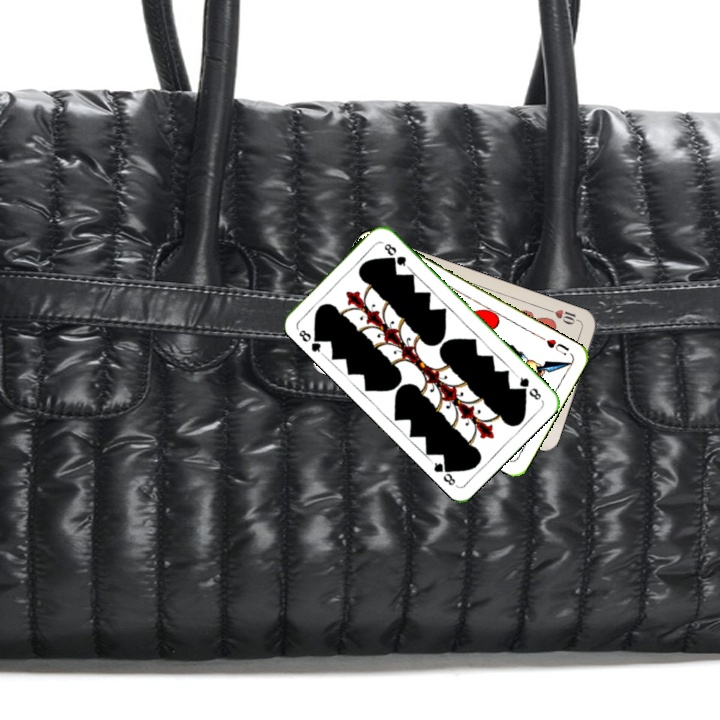G8: (293, 324, 326, 357), (512, 371, 544, 403)
H10: (544, 305, 584, 327)
HU: (536, 332, 572, 358)
